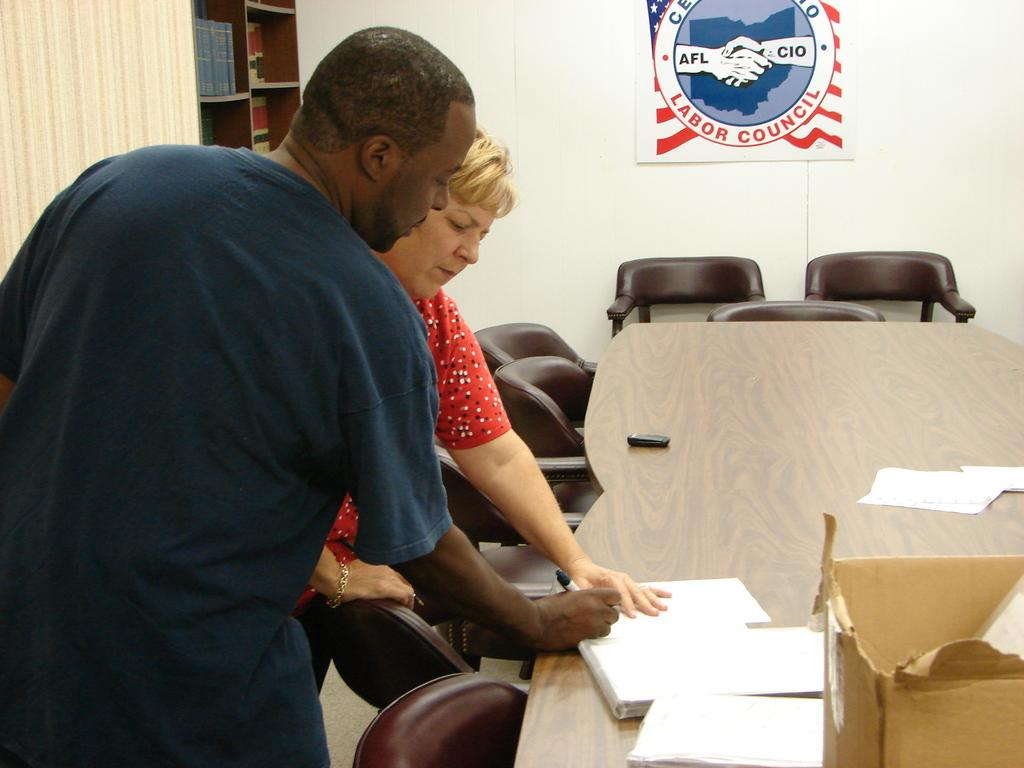Chair: (606, 255, 765, 338), (803, 250, 975, 322)
